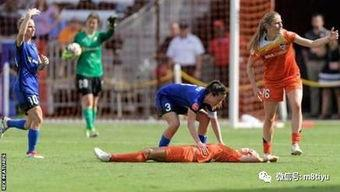bending: (246, 10, 335, 160), (153, 75, 228, 149)
down: (85, 132, 281, 168)
up: (1, 6, 58, 162), (64, 6, 122, 139)
